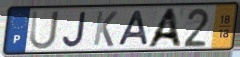2: (183, 6, 211, 49)
A: (144, 7, 184, 49), (117, 10, 150, 48)
J: (61, 10, 88, 48)
K: (92, 10, 119, 48)
U: (28, 9, 61, 51)
